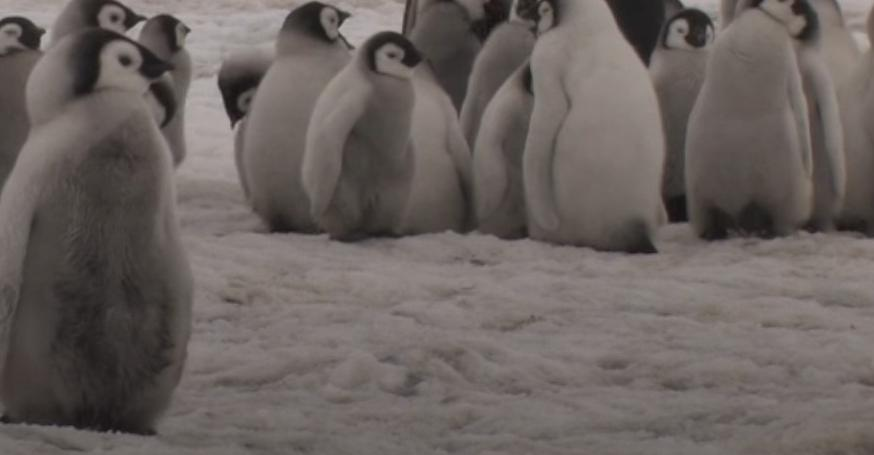Emperor Penguin: (464, 0, 662, 69), (394, 0, 608, 35)
